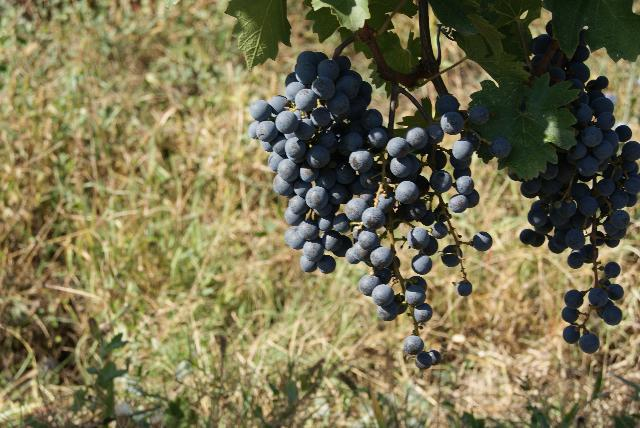grapes: (520, 22, 640, 354), (249, 51, 388, 271), (319, 136, 431, 326)
